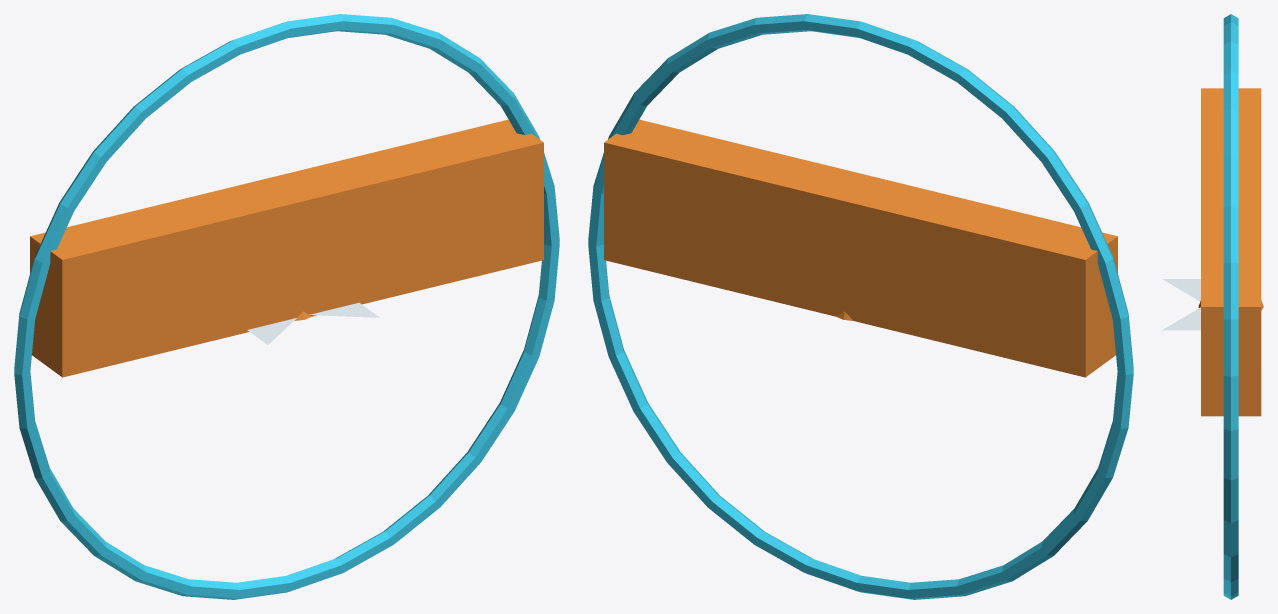
The model's file is guides.glb.
3 renders of one model, left to right at view 1: azimuth 30°, elevation 25°; view 2: azimuth 150°, elevation 25°; view 3: azimuth 270°, elevation 25°, orthographic. The views are drawn at different scales.
Parts seen in each view (by area): view 1: Academy_Hurdle, Academy_Hoop, Academy_Chevron; view 2: Academy_Hurdle, Academy_Hoop; view 3: Academy_Hurdle, Academy_Hoop, Academy_Chevron.
Boxes of the visible parts, bbox=[...] form: Academy_Hurdle: bbox=[30, 119, 543, 377]; Academy_Hoop: bbox=[14, 14, 559, 599]; Academy_Chevron: bbox=[247, 302, 379, 344]; Academy_Hurdle: bbox=[604, 119, 1117, 377]; Academy_Hoop: bbox=[588, 14, 1133, 599]; Academy_Hurdle: bbox=[1201, 88, 1261, 416]; Academy_Hoop: bbox=[1223, 14, 1238, 599]; Academy_Chevron: bbox=[1162, 279, 1200, 330].
Bounding box in the file's own units: 6.8 × 6.8 × 1.18.
